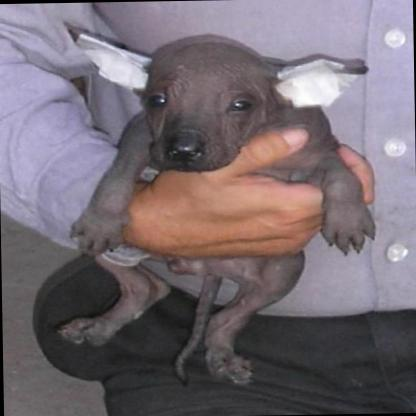Mexican_hairless: (50, 14, 379, 390)
